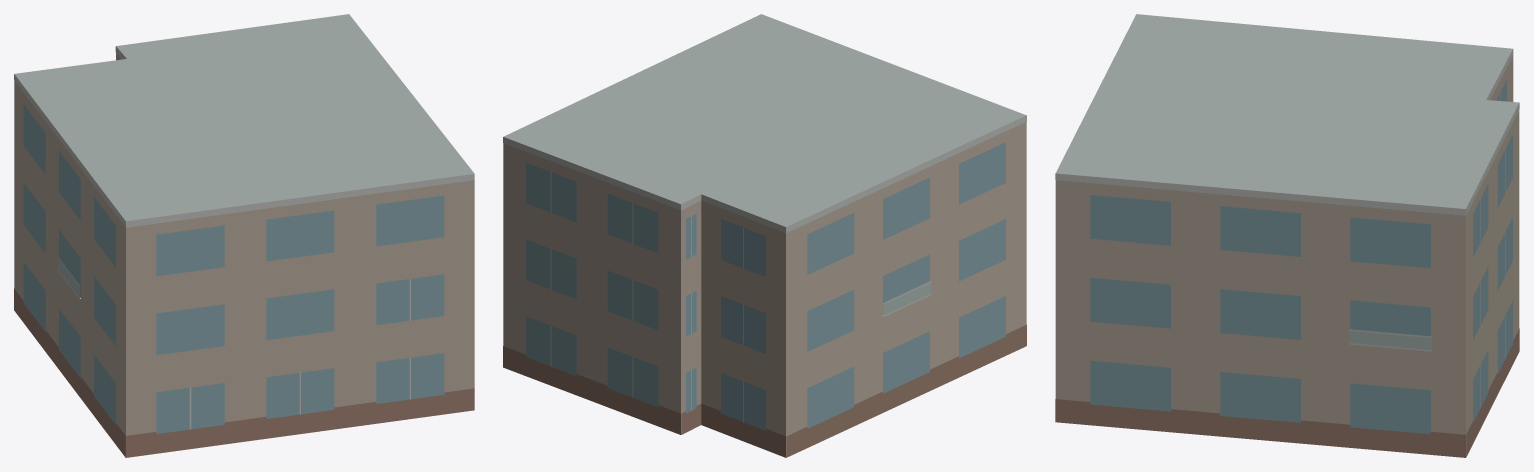
Rendered from survey-upis-32528054.glb.
3 renders of one model, left to right at view 1: azimuth 30°, elevation 25°; view 2: azimuth 150°, elevation 25°; view 3: azimuth 270°, elevation 25°, orthographic. The views are drawn at different scales.
Visible parts, largest first — view 1: survey-upis-32528054.tmp; view 2: survey-upis-32528054.tmp; view 3: survey-upis-32528054.tmp.
Part boxes in pixels (bbox=[...]): survey-upis-32528054.tmp: bbox=[14, 14, 474, 457]; survey-upis-32528054.tmp: bbox=[503, 14, 1026, 457]; survey-upis-32528054.tmp: bbox=[1055, 14, 1519, 457].
Size of the model in its own units: 15.31 by 9.1 by 15.39.
